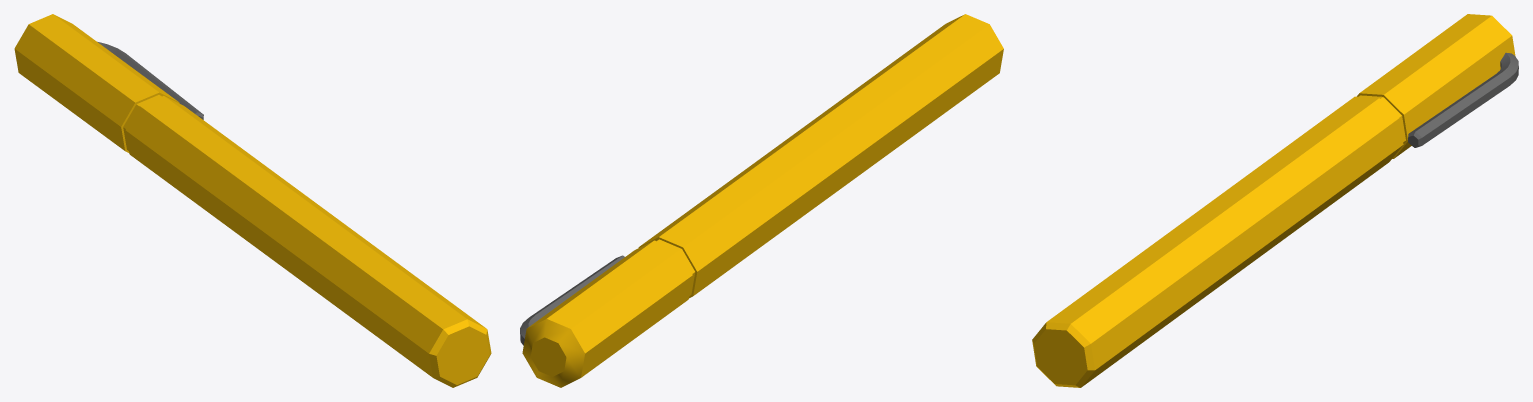
File: Lapiz04.fbx
The picture shows the model from 3 angles, left to right: view 1: azimuth 30°, elevation 25°; view 2: azimuth 150°, elevation 25°; view 3: azimuth 330°, elevation 25°; orthographic projection.
Parts seen in each view (by area): view 1: Lapiz04; view 2: Lapiz04; view 3: Lapiz04.
Boxes of the visible parts, x1,y1,x2,y2 form: Lapiz04: (14, 14, 491, 387); Lapiz04: (520, 14, 1003, 387); Lapiz04: (1032, 14, 1518, 387).
Size of the model in its own units: 2.08 by 1.55 by 18.01.
